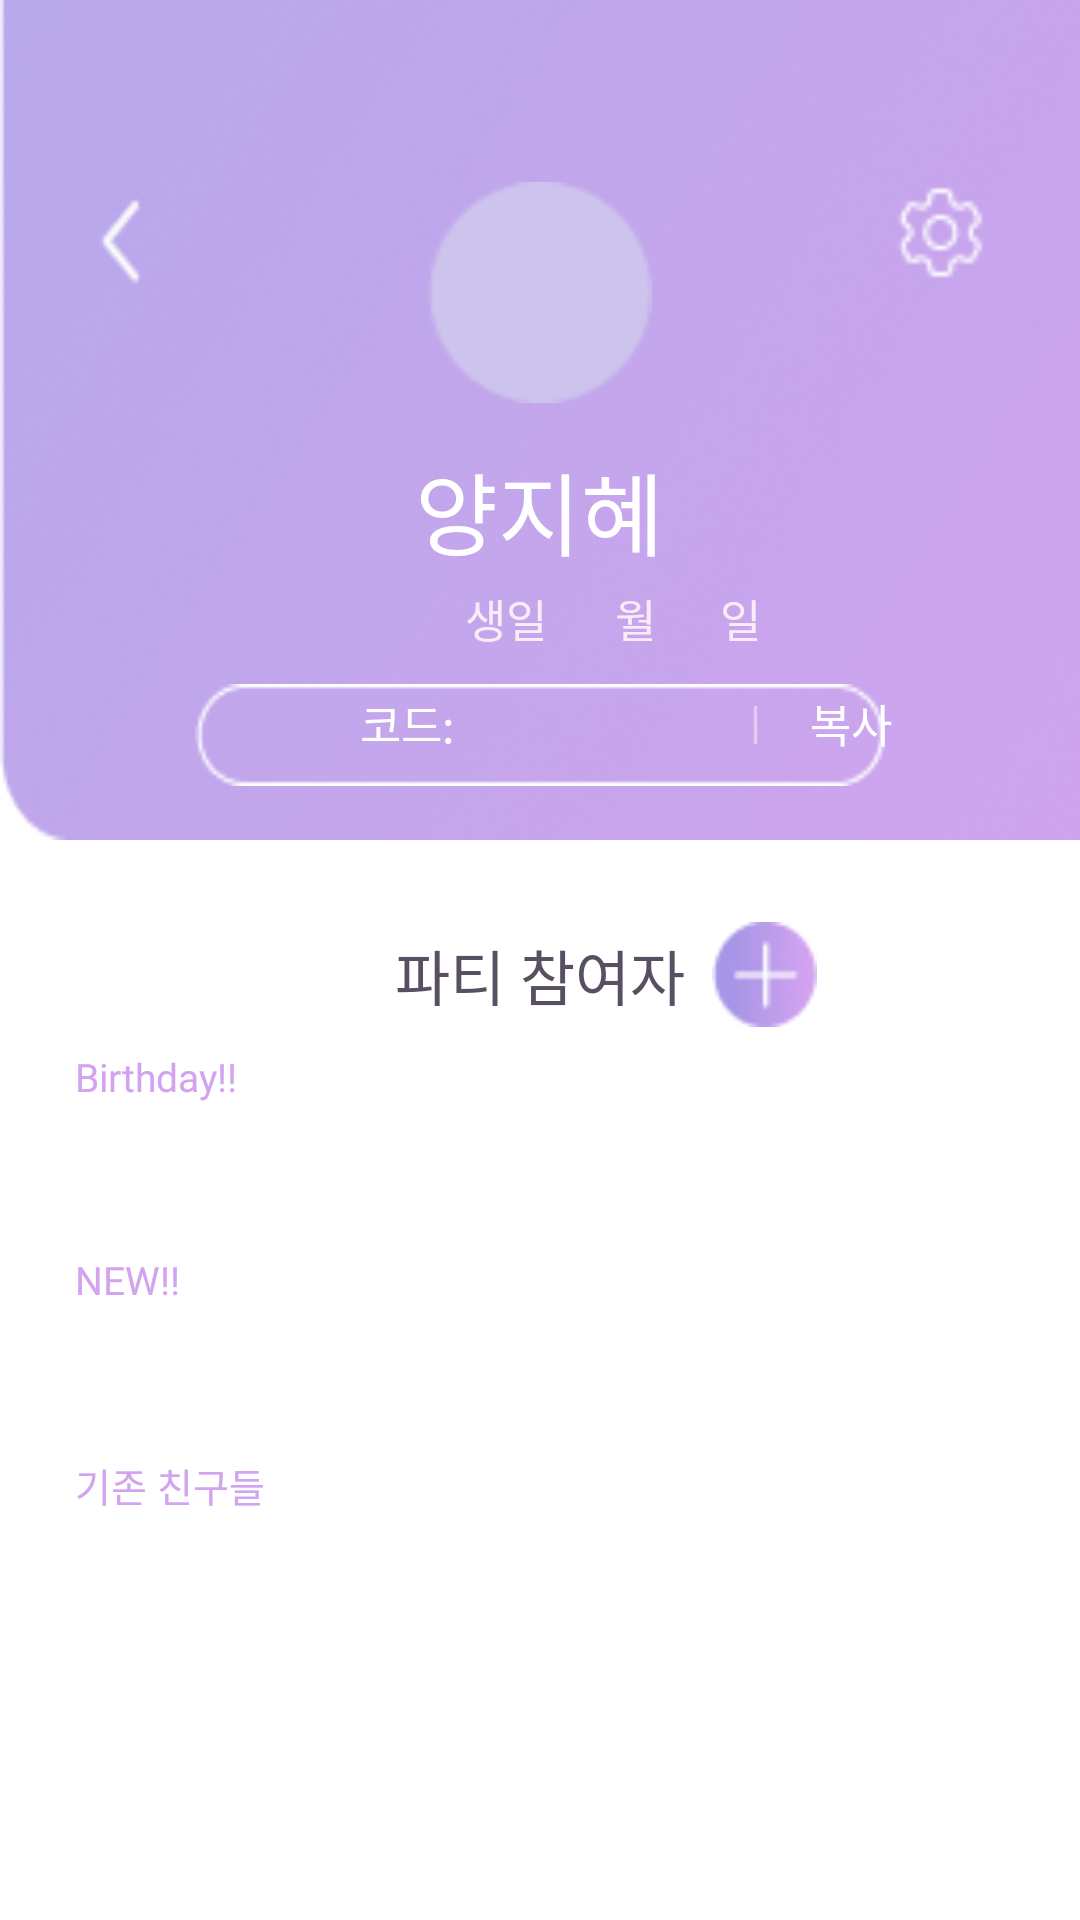

Where icons sit on this 1080w x 1920h app screen, as (x1, y1, x2, y2):
setting: (900, 188, 982, 277)
